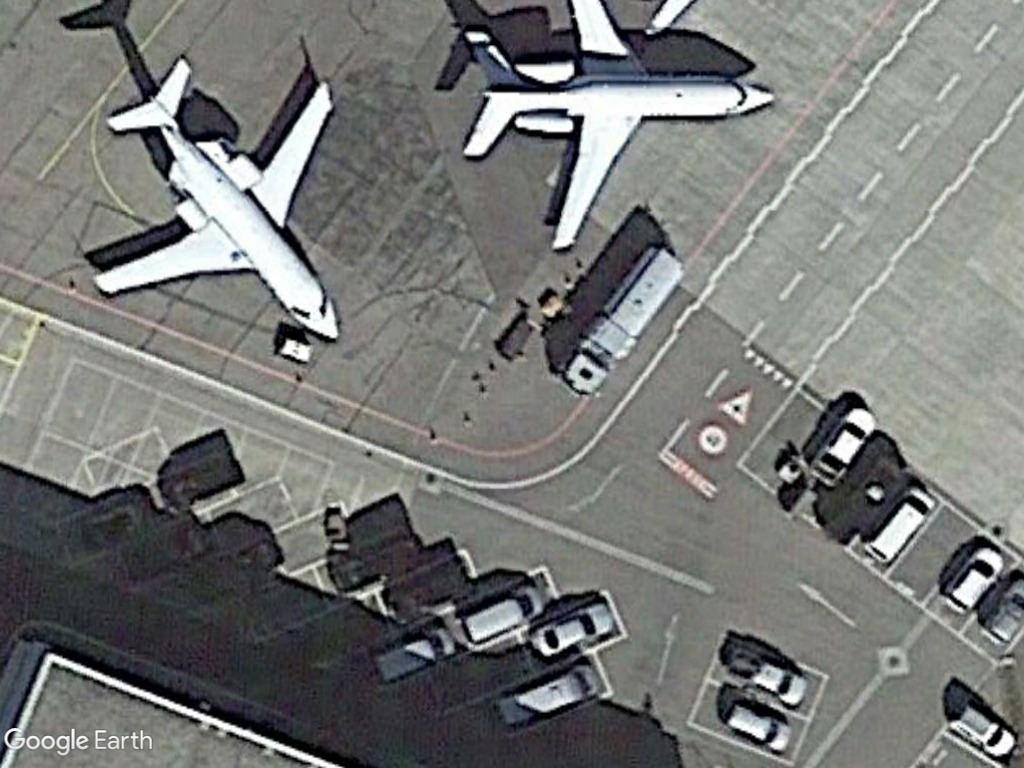car: (531, 602, 616, 662), (941, 546, 1007, 619), (945, 695, 1018, 759), (722, 697, 795, 754)
chartered: (82, 47, 346, 349)
others: (557, 248, 688, 399)
van: (455, 581, 552, 652), (860, 488, 938, 566)
